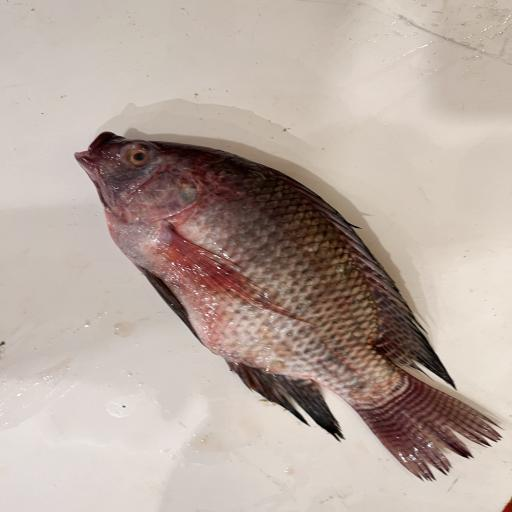Tilapia: (75, 132, 506, 481)
